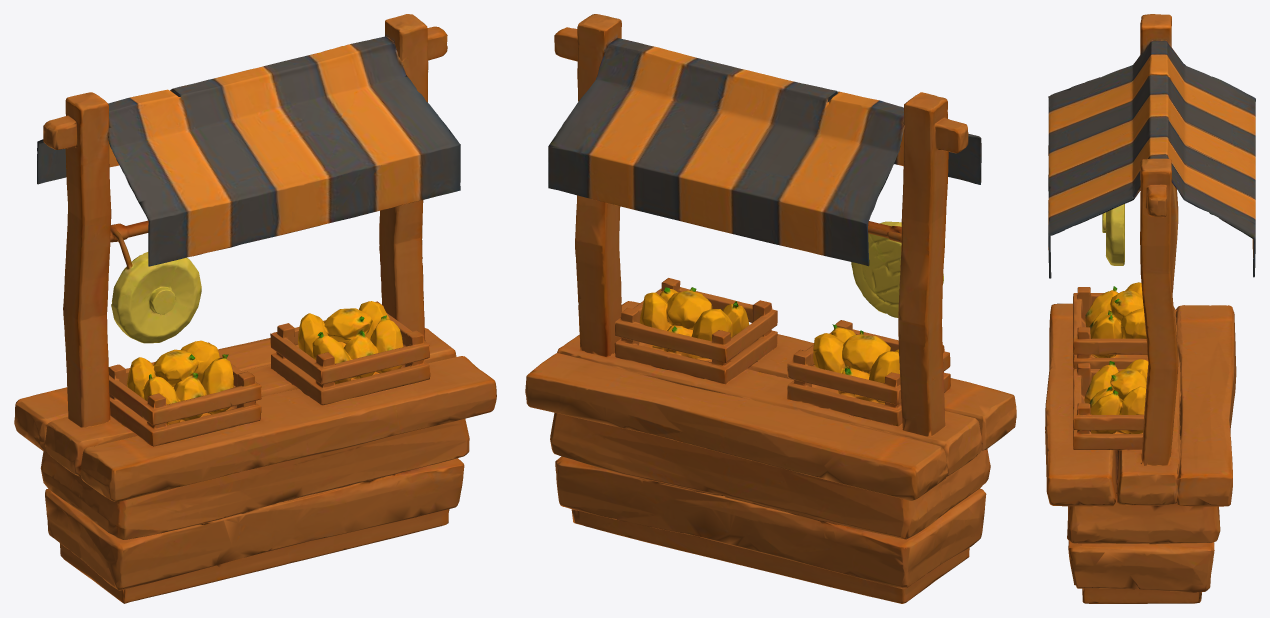
File: mango-stall.glb
The picture shows the model from 3 angles, left to right: view 1: azimuth 30°, elevation 25°; view 2: azimuth 150°, elevation 25°; view 3: azimuth 270°, elevation 25°; orthographic projection. The views are drawn at different scales.
Parts seen in each view (by area): view 1: tripo_node_2202d499-2687-427e-9013-22b99e7d5c25; view 2: tripo_node_2202d499-2687-427e-9013-22b99e7d5c25; view 3: tripo_node_2202d499-2687-427e-9013-22b99e7d5c25.
Boxes of the visible parts, <box> form: tripo_node_2202d499-2687-427e-9013-22b99e7d5c25: <box>14,14,496,603</box>; tripo_node_2202d499-2687-427e-9013-22b99e7d5c25: <box>525,14,1016,603</box>; tripo_node_2202d499-2687-427e-9013-22b99e7d5c25: <box>1045,14,1255,603</box>.
Size of the model in its own units: 0.8566 by 0.9799 by 0.425.
1 material, 1 textured.
